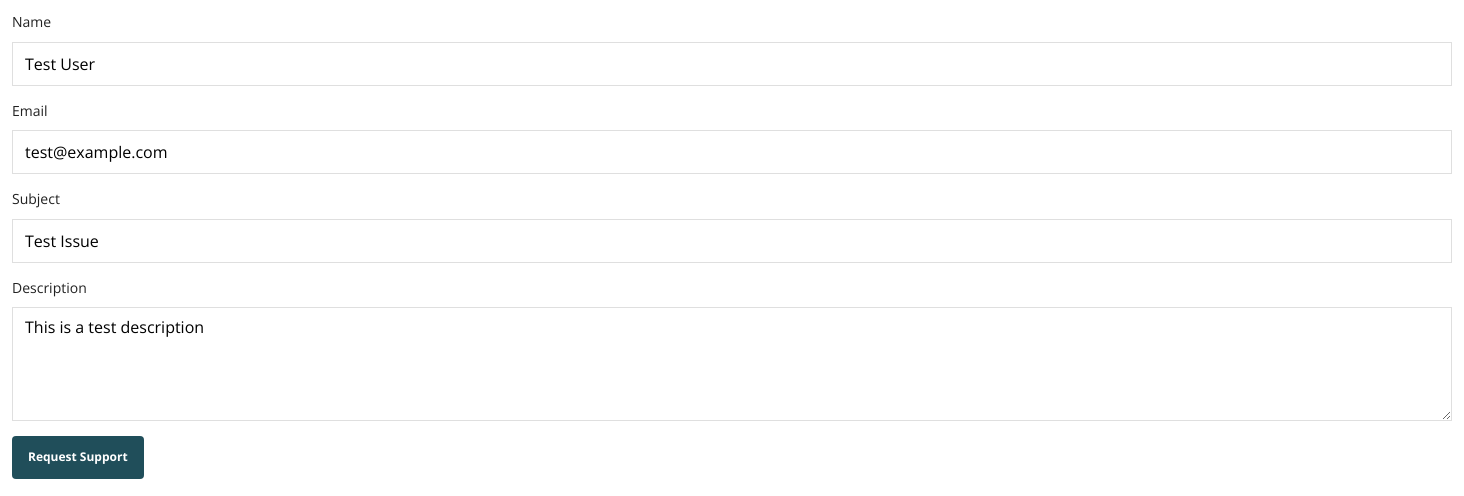
ZammadWidget component › falls back to the support inbox when the mutation fails
This screenshot has width=1464, height=496.
Click the button "Request Support" at (78, 458), box [12,436,144,479]
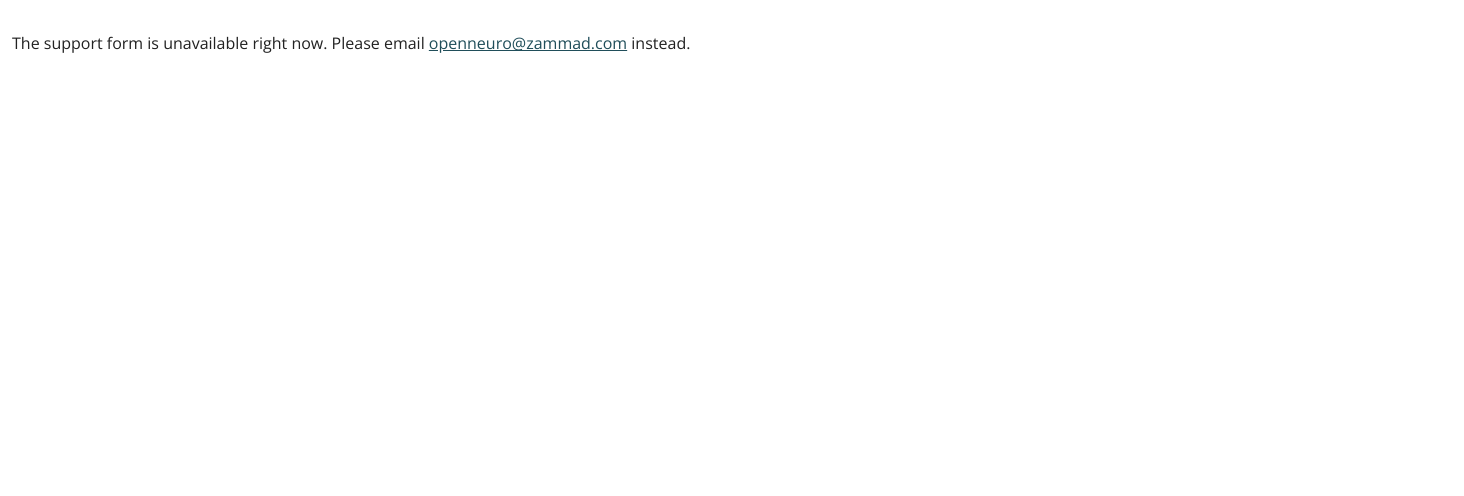
Now the link "openneuro@zammad.com" is shown, box [429,32,627,54]
Now the button "Request Support" is gone
